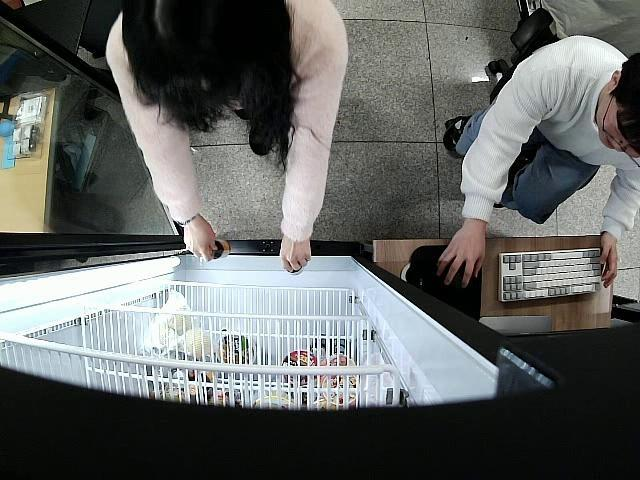17_vita500: (212, 238, 230, 261)
